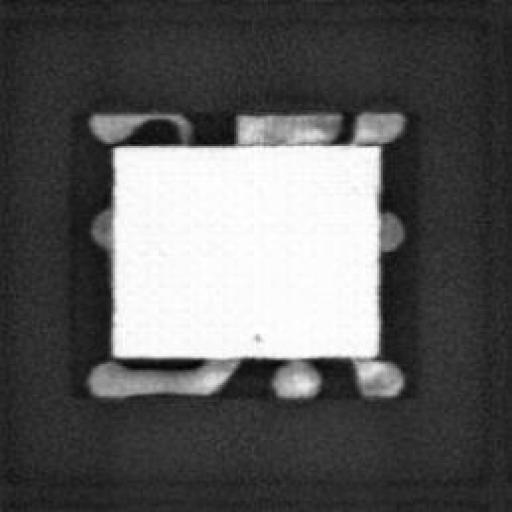DIE_INK: (248, 326, 262, 343)
